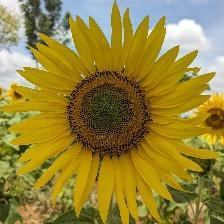sunflower: (2, 1, 215, 224)
